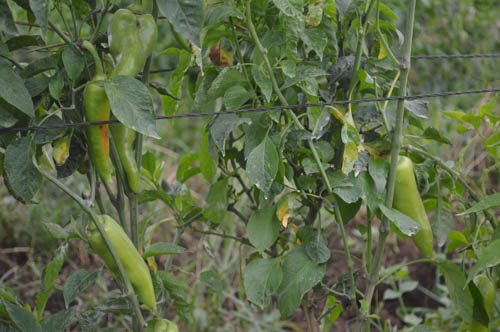ChiliPepper: (94, 216, 164, 309), (392, 157, 436, 257), (103, 8, 159, 82), (84, 80, 112, 179), (115, 116, 141, 193)
